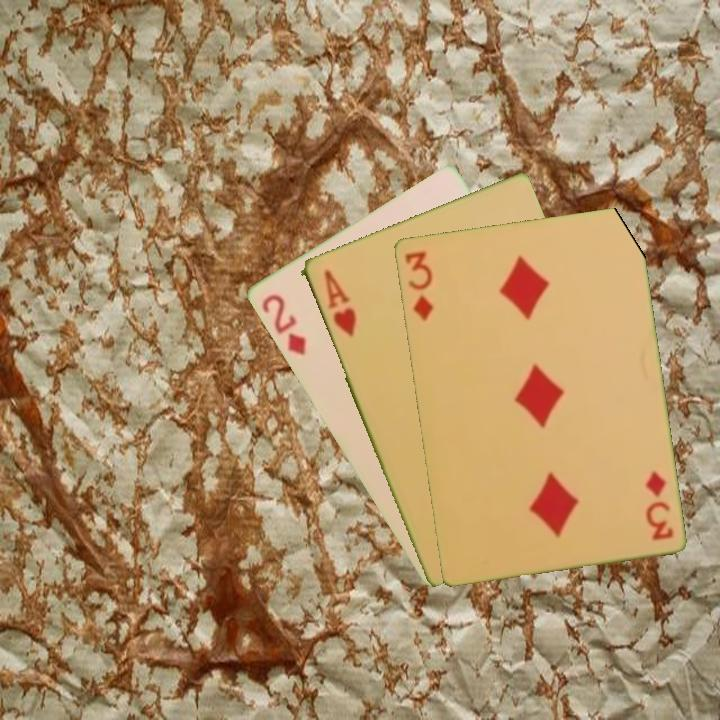2d: (257, 290, 309, 359)
3d: (400, 247, 436, 324), (642, 467, 676, 543)
Ah: (319, 266, 359, 339)
